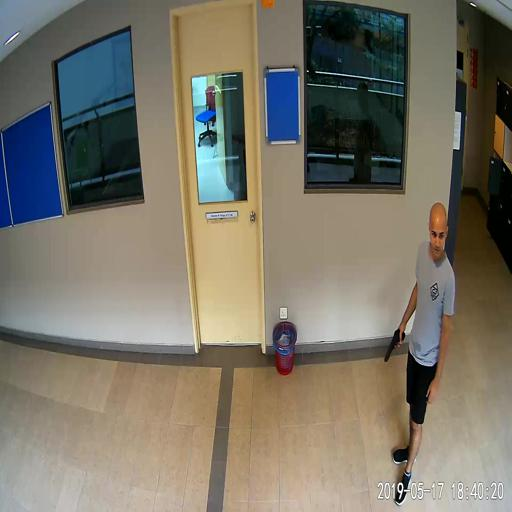pistol: (384, 329, 404, 362)
